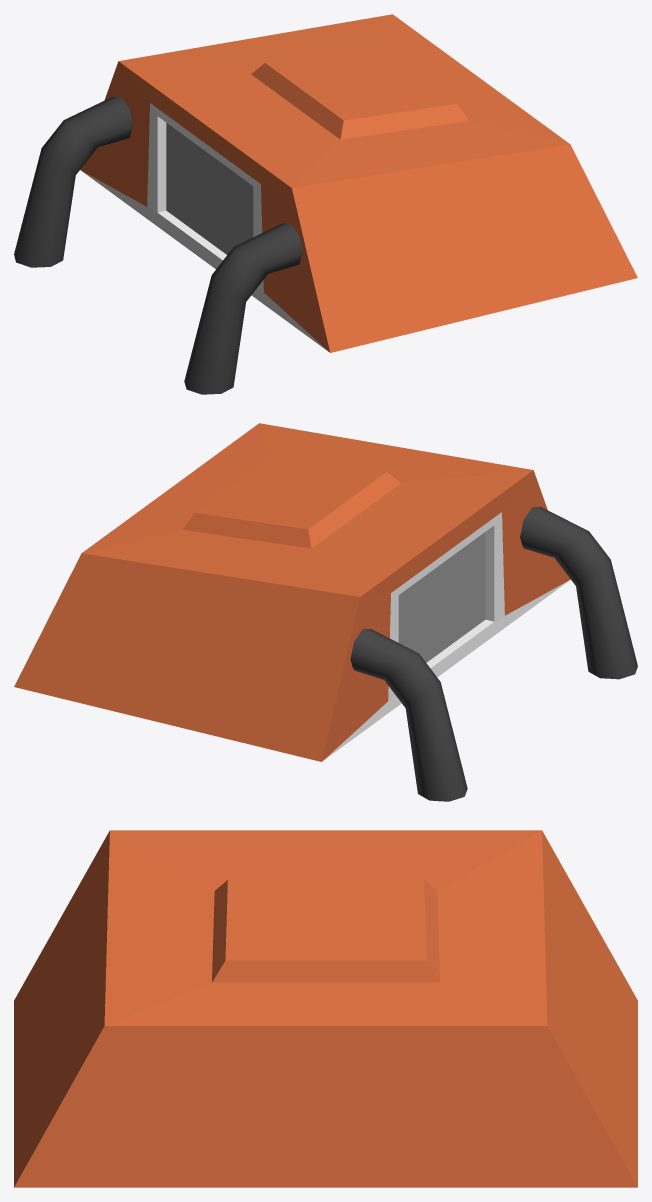
File: Machine_7.fbx
3 views of the same model, one above another, from view 1: azimuth 30°, elevation 25°; view 2: azimuth 150°, elevation 25°; view 3: azimuth 270°, elevation 25° (orthographic). The views are drawn at different scales.
Parts seen in each view (by area): view 1: Machine_7; view 2: Machine_7; view 3: Machine_7.
Part boxes in pixels (x1,y1,x2,y2): Machine_7: [14, 14, 637, 394]; Machine_7: [14, 423, 637, 801]; Machine_7: [14, 830, 637, 1187].
Bounding box in the file's own units: 1005 × 436 × 1061.
